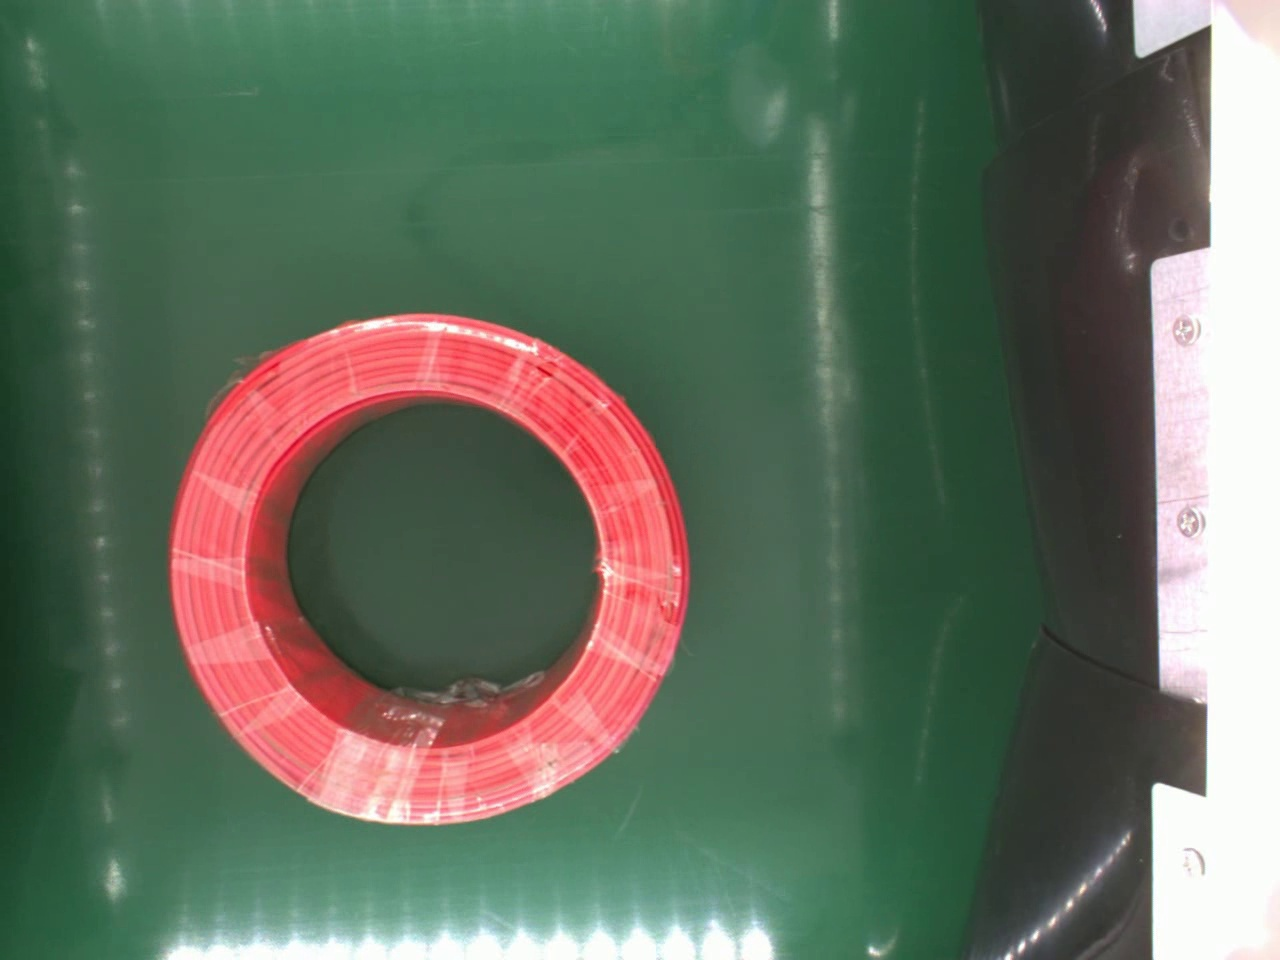red: (162, 310, 692, 827)
